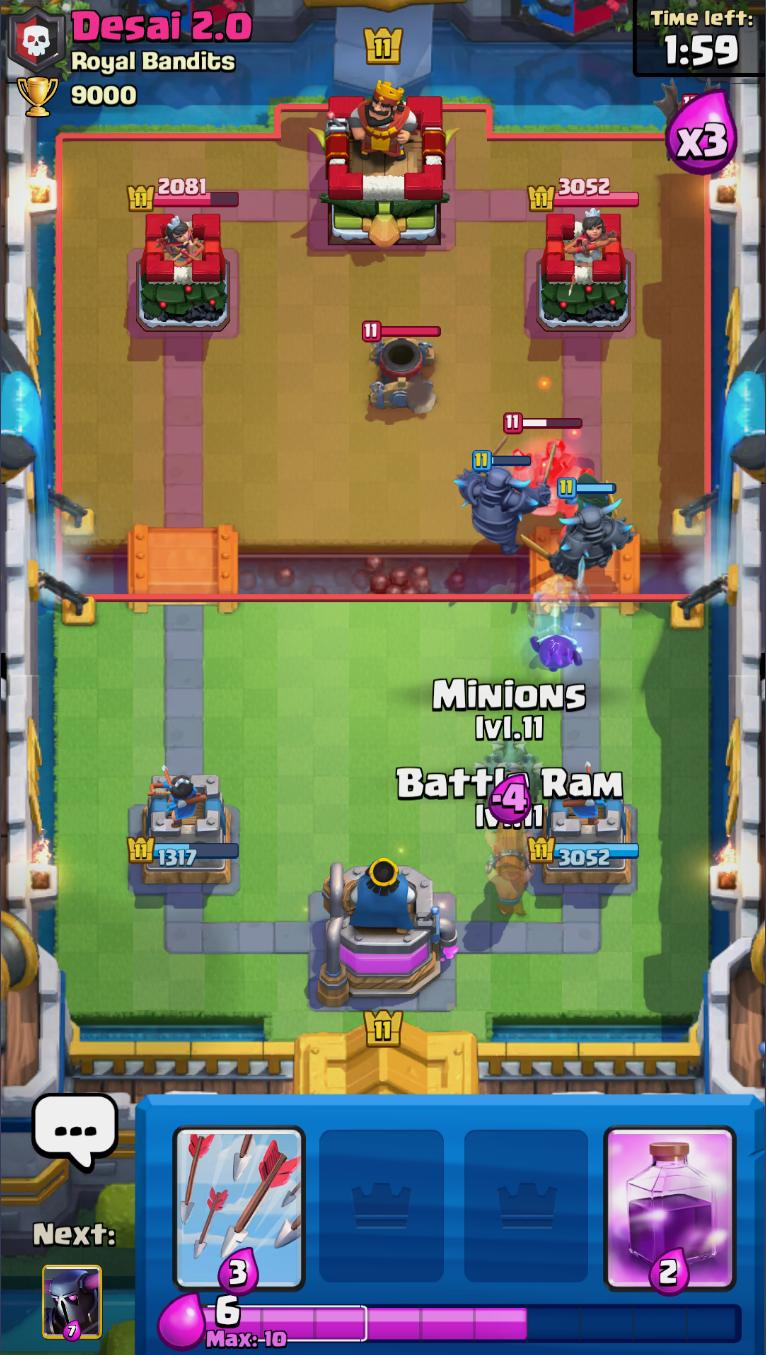ArrowDeck: (167, 1095, 310, 1296)
Elixir: (203, 1295, 744, 1350)
Empty: (311, 1095, 455, 1296), (456, 1094, 598, 1295)
EnemyTower: (533, 208, 631, 331), (133, 210, 229, 335)
Golem: (503, 411, 595, 518)
KingTower: (308, 82, 456, 248)
LavaHound: (658, 72, 723, 126)
Mortar: (361, 319, 442, 409)
MyBandit: (564, 472, 615, 517)
MyElectroSpirit: (529, 633, 584, 672)
MyKingTower: (319, 856, 458, 1009)
MyPekka: (519, 477, 638, 582), (453, 436, 556, 557)
MyPrincessTower: (524, 771, 639, 887), (125, 769, 238, 887)
MyPrincessTowerHP: (125, 836, 238, 868), (525, 835, 637, 867)
MyRoyaleGhost: (528, 556, 592, 635)
PekkaNext: (40, 1264, 105, 1344)
PrincessTower: (546, 213, 603, 264), (148, 214, 204, 264)
RageDeck: (599, 1094, 744, 1296)
TowerPrincessHP: (126, 178, 239, 213), (526, 178, 639, 212)
